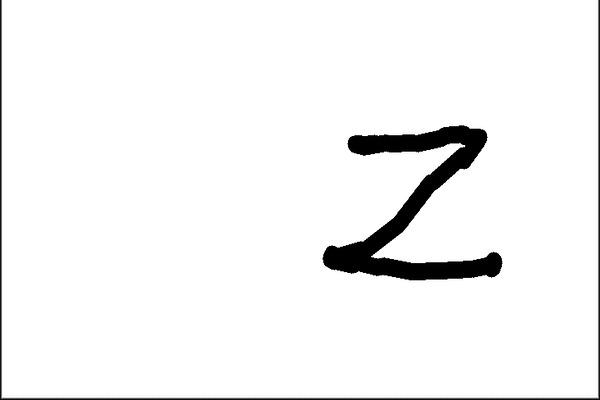Z: (319, 117, 510, 298)
